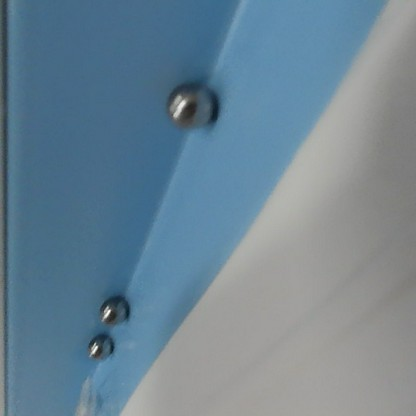ironball: (157, 77, 221, 133), (96, 292, 134, 328), (83, 330, 118, 366)
